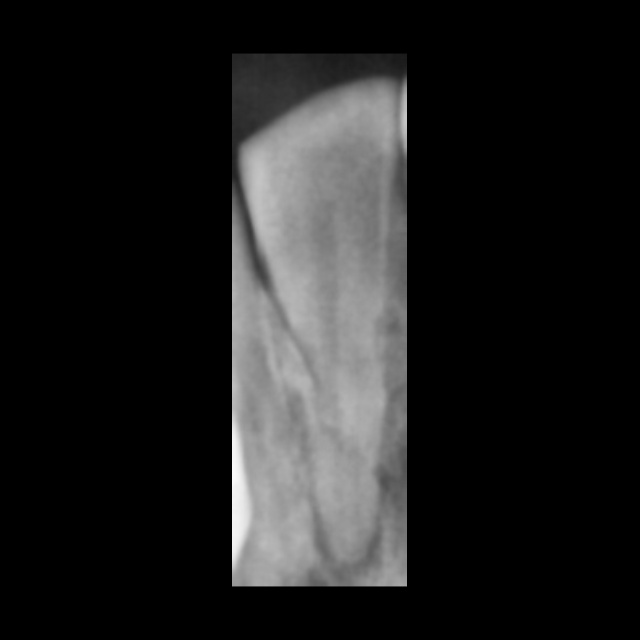tooth: (232, 80, 405, 585)
